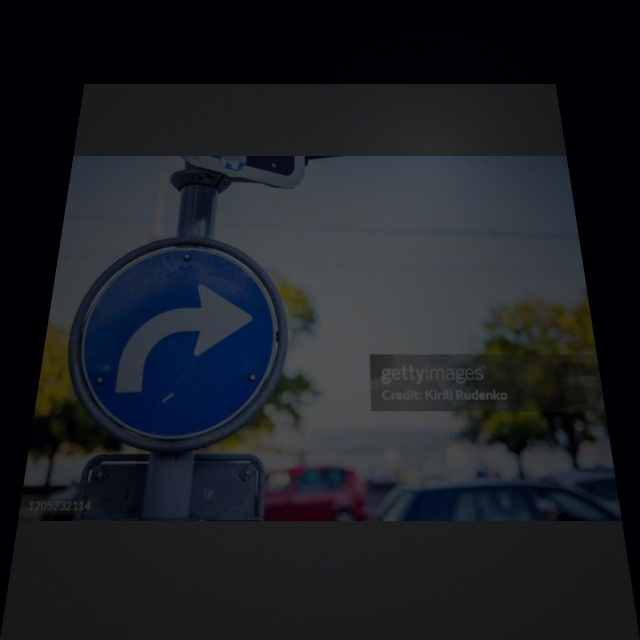Compulsory_Turn_Right_Ahead: (63, 239, 282, 445)
